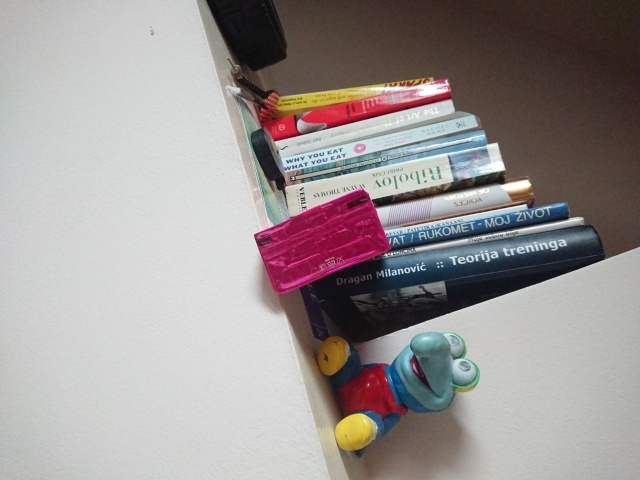Barcaffe Classic Original 225g: (251, 185, 394, 299)
